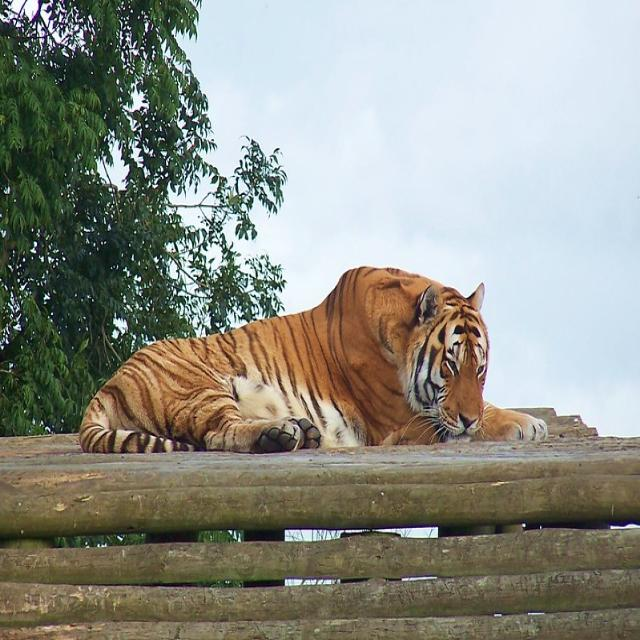Tiger: (76, 260, 547, 451)
